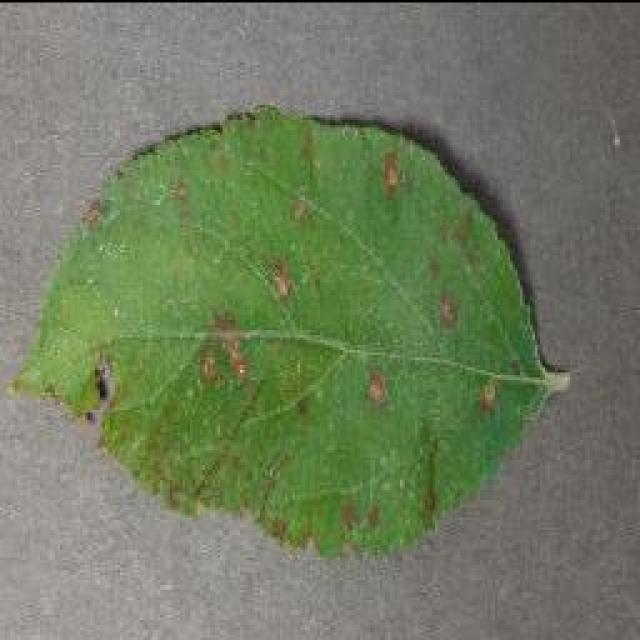apple cedar apple rust: (8, 100, 572, 560)
